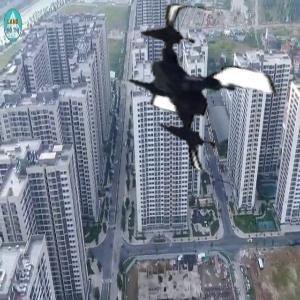drone: (117, 3, 298, 184)
